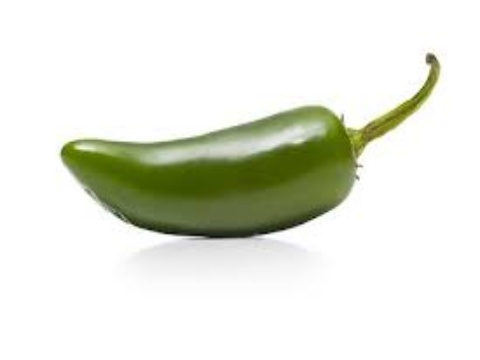Chilli: (48, 47, 450, 244)
